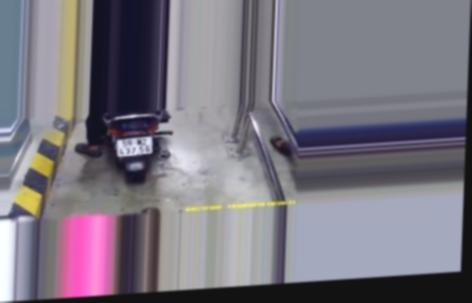License_Plate: (113, 134, 155, 157)
